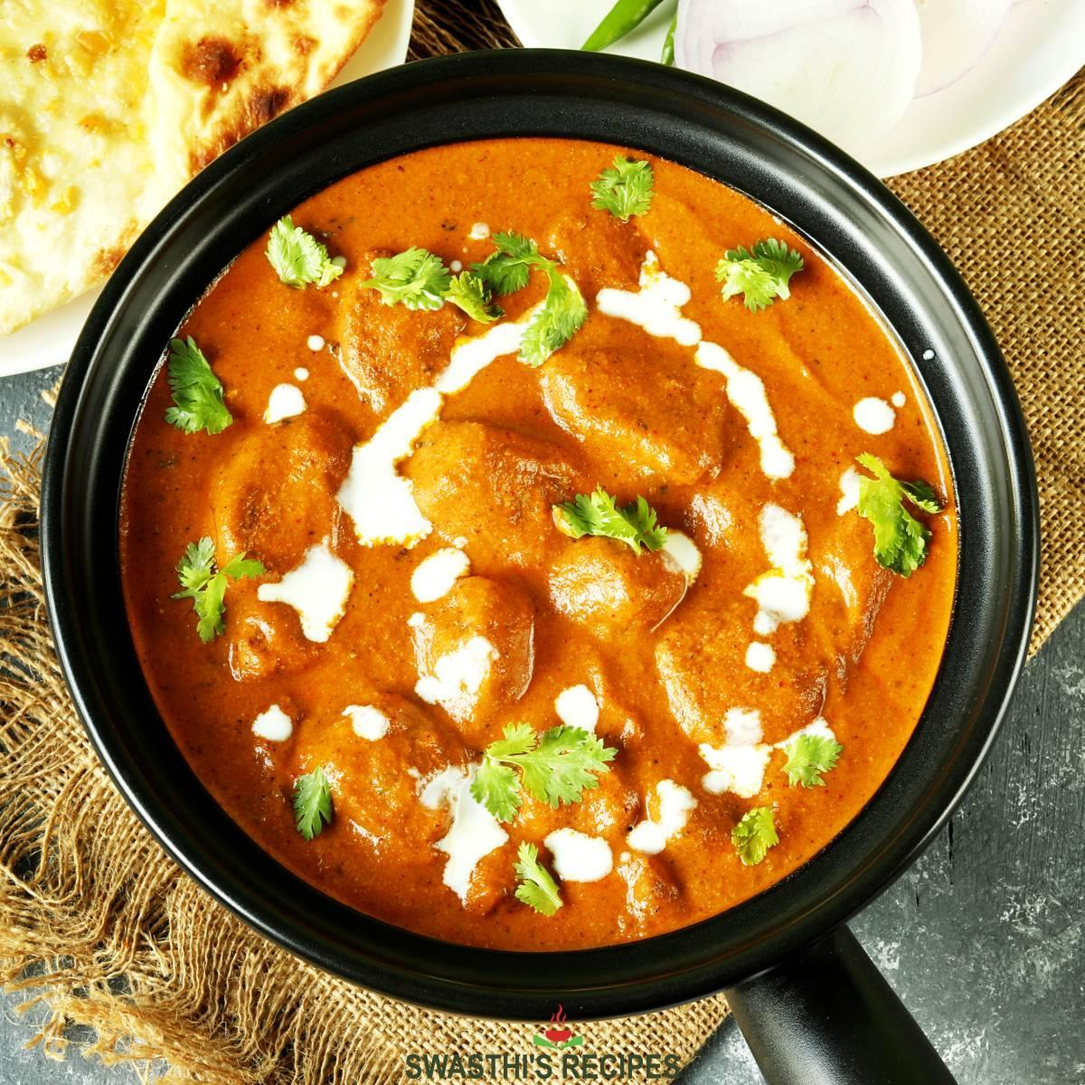chicken: (118, 212, 986, 916)
